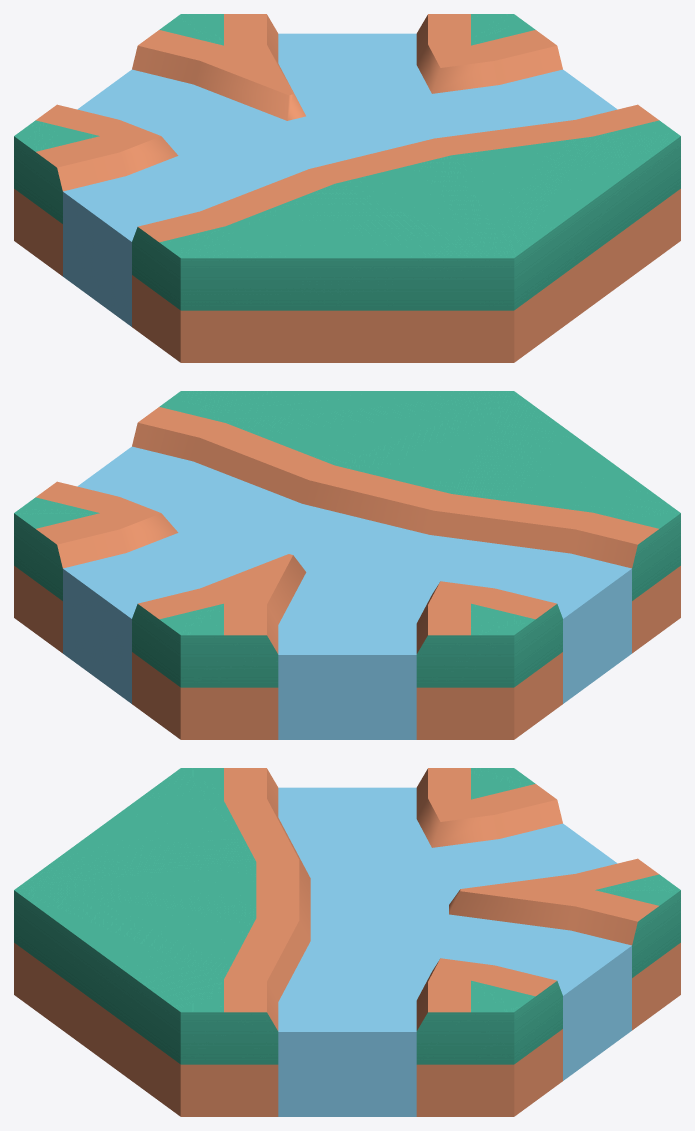
Rendered from river-intersectionH.glb.
The picture shows the model from 3 angles, top to bottom: view 1: azimuth 30°, elevation 25°; view 2: azimuth 150°, elevation 25°; view 3: azimuth 270°, elevation 25°; orthographic projection.
Parts seen in each view (by area): view 1: river-intersectionH; view 2: river-intersectionH; view 3: river-intersectionH.
Part boxes in pixels (x1,y1,x2,y2): river-intersectionH: [14, 14, 680, 362]; river-intersectionH: [14, 391, 680, 739]; river-intersectionH: [14, 768, 680, 1116].
Size of the model in its own units: 10 by 2 by 11.55.
Materials: 1 (1 with a texture image).
